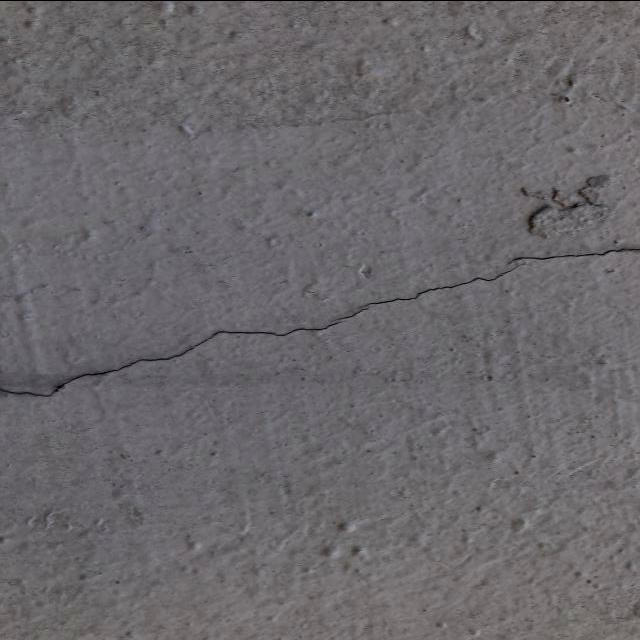SurfaceCrack: (0, 192, 639, 433)
